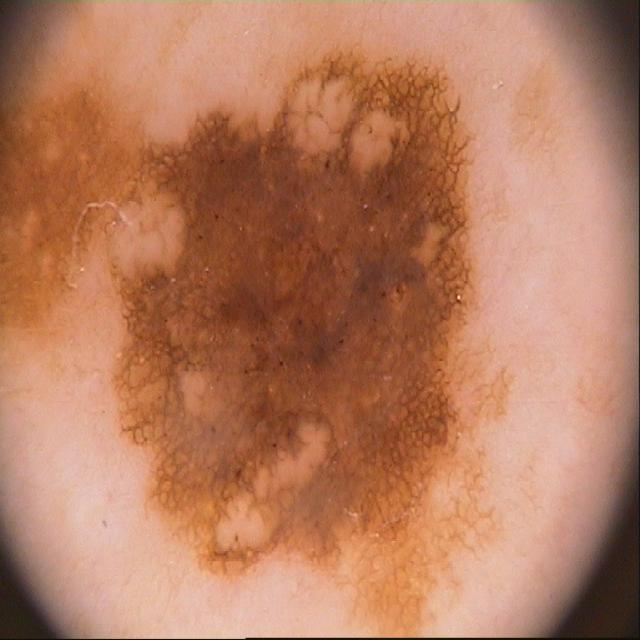Skin-Cancer Nevus: (3, 0, 640, 640)
